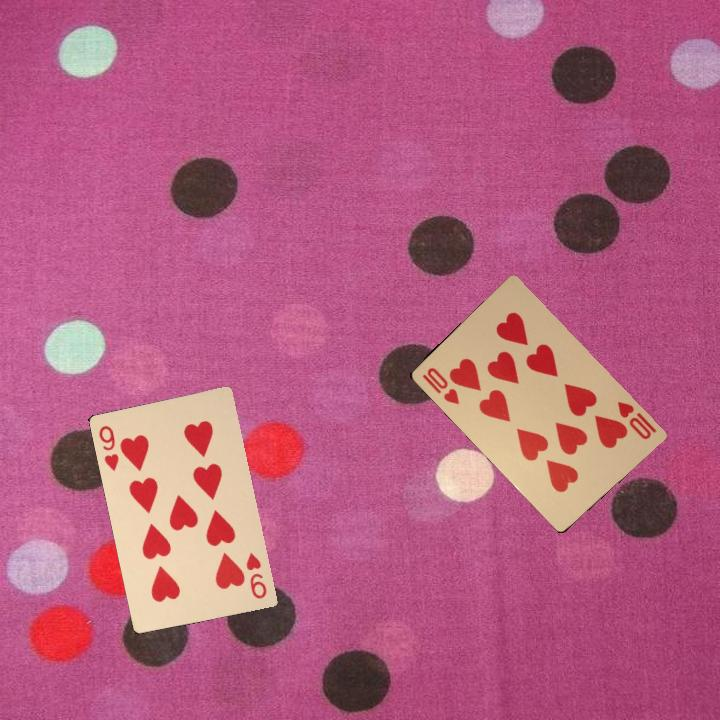10h: (613, 397, 659, 442), (418, 363, 462, 407)
9h: (242, 548, 269, 601), (95, 421, 121, 473)
